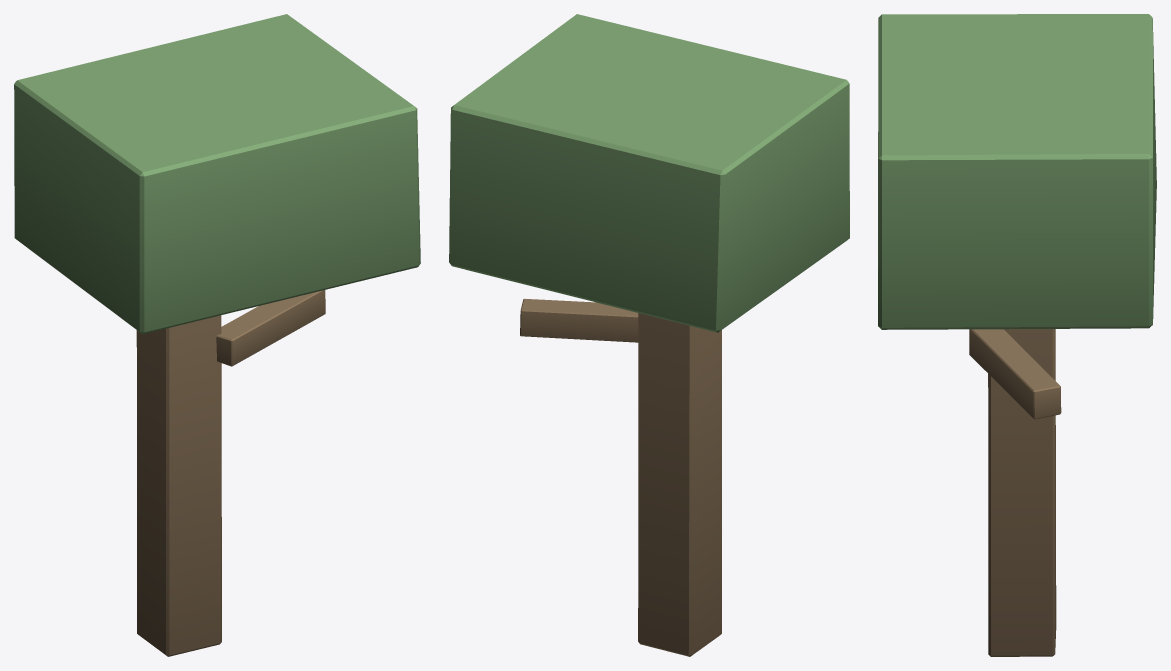
The model's file is tree_b.glb.
3 renders of one model, left to right at view 1: azimuth 30°, elevation 25°; view 2: azimuth 150°, elevation 25°; view 3: azimuth 270°, elevation 25°, orthographic. The views are drawn at different scales.
Parts seen in each view (by area): view 1: Canopy, Trunk, Branch; view 2: Canopy, Trunk, Branch; view 3: Canopy, Trunk, Branch.
Boxes of the visible parts, <box> form: Canopy: <box>14,14,420,334</box>; Trunk: <box>136,315,221,656</box>; Branch: <box>216,290,325,366</box>; Canopy: <box>449,14,849,332</box>; Trunk: <box>638,313,721,656</box>; Branch: <box>520,298,638,342</box>; Canopy: <box>878,14,1156,329</box>; Trunk: <box>988,329,1056,656</box>; Branch: <box>969,329,1061,419</box>.
Size of the model in its own units: 1.09 by 2 by 0.8771.
